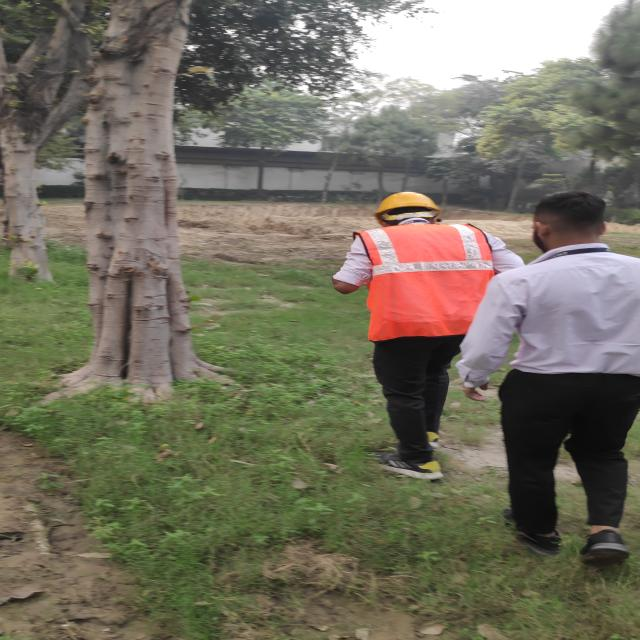safe: (331, 191, 523, 484)
unsafe: (469, 192, 640, 571)
